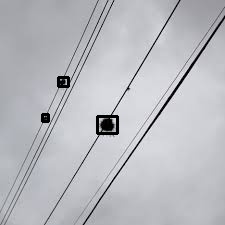bird-nest: (99, 117, 117, 133), (58, 78, 67, 85), (43, 115, 48, 120)
